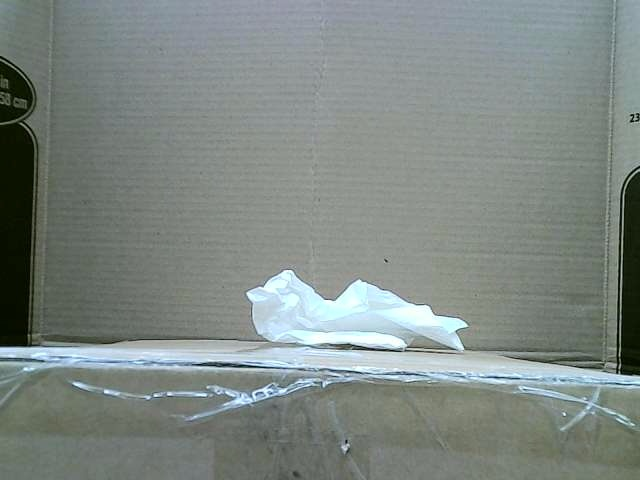Tissue: (245, 269, 470, 353)
